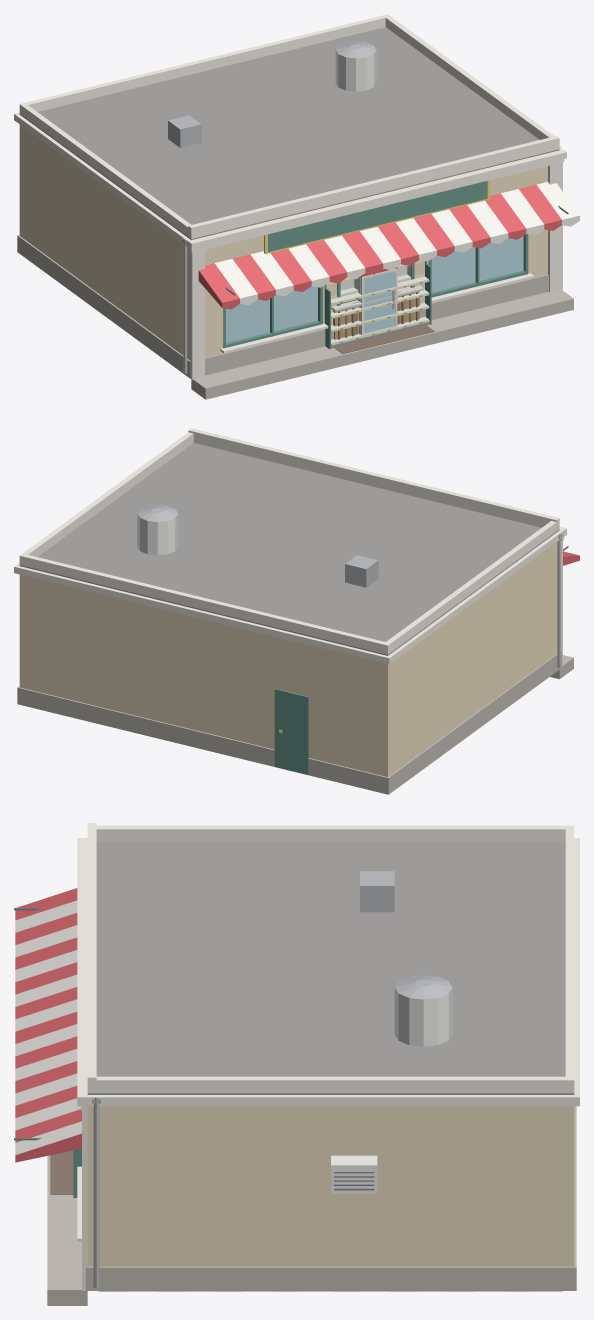
File: dukkan.glb
3 views of the same model, one above another, from view 1: azimuth 30°, elevation 25°; view 2: azimuth 150°, elevation 25°; view 3: azimuth 270°, elevation 25° (orthographic). The views are drawn at different scales.
Visible parts, largest first — view 1: Bina, Cati, Raf, Buzdolabi, Tezgah; view 2: Bina, Cati; view 3: Cati, Bina.
Part boxes in pixels (x1,y1,x2,y2): Bina: (14,112,579,399); Cati: (19,14,559,239); Raf: (325,263,431,349); Buzdolabi: (354,267,397,335); Tezgah: (331,285,423,339); Bina: (14,527,579,794); Cati: (19,428,559,655); Cati: (87,823,574,1094); Bina: (14,838,579,1305).
Bounding box in the file's own units: 10.97 × 5.03 × 9.78.
